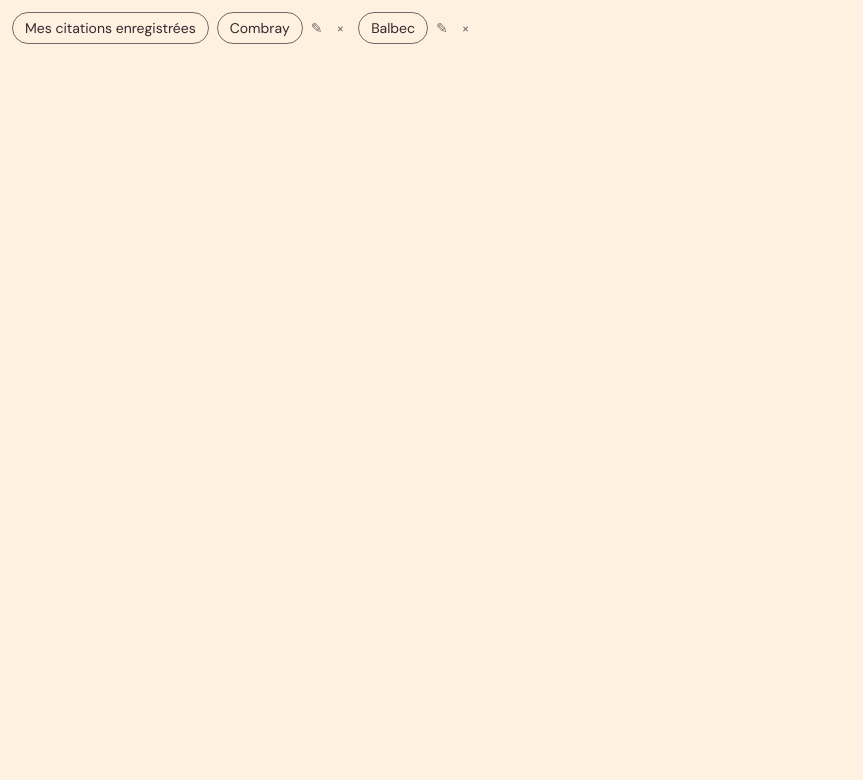
Test case: shows an error toast on a 409 conflict and keeps editing
The width and height of the screenshot is (863, 780).
Click the button named "Renommer Combray" at (317, 28), box [305,17,328,39]
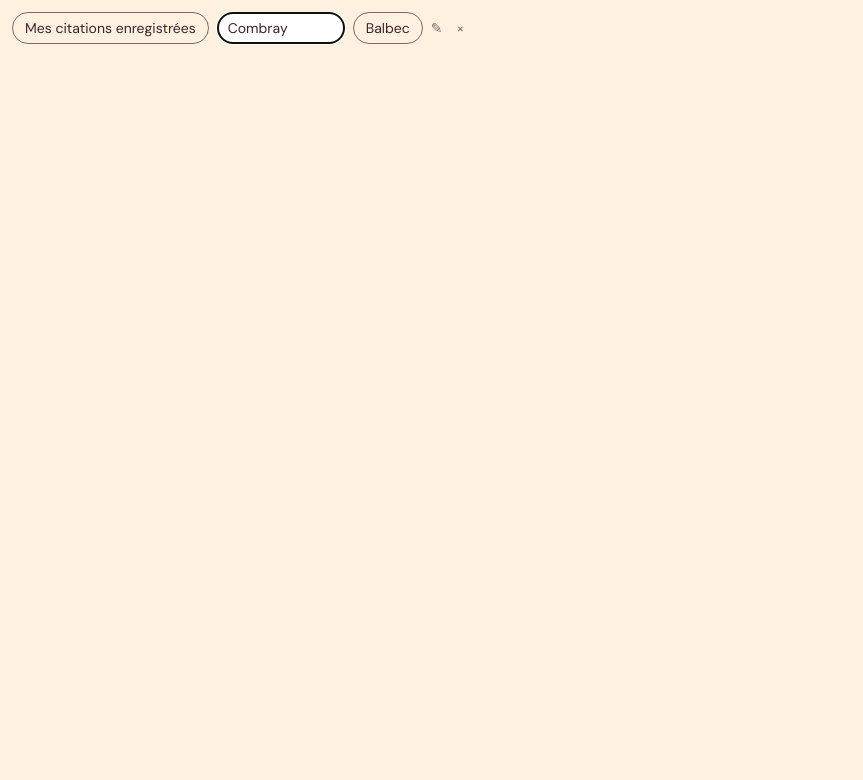
Type " bis" into the field named "Renommer Combray" at (281, 28), box [217,12,345,44]
Then press Enter
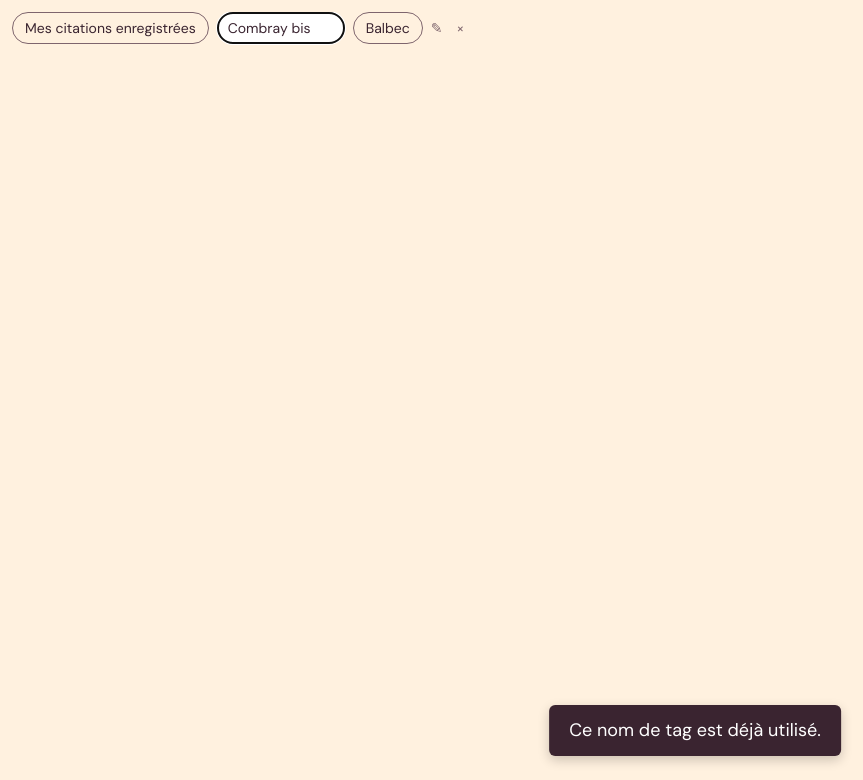
Expected: the field named "Renommer Combray" is shown, [217,12,345,44]
Expected: the text "Ce nom de tag est déjà utilisé." is shown, [549,705,841,756]
